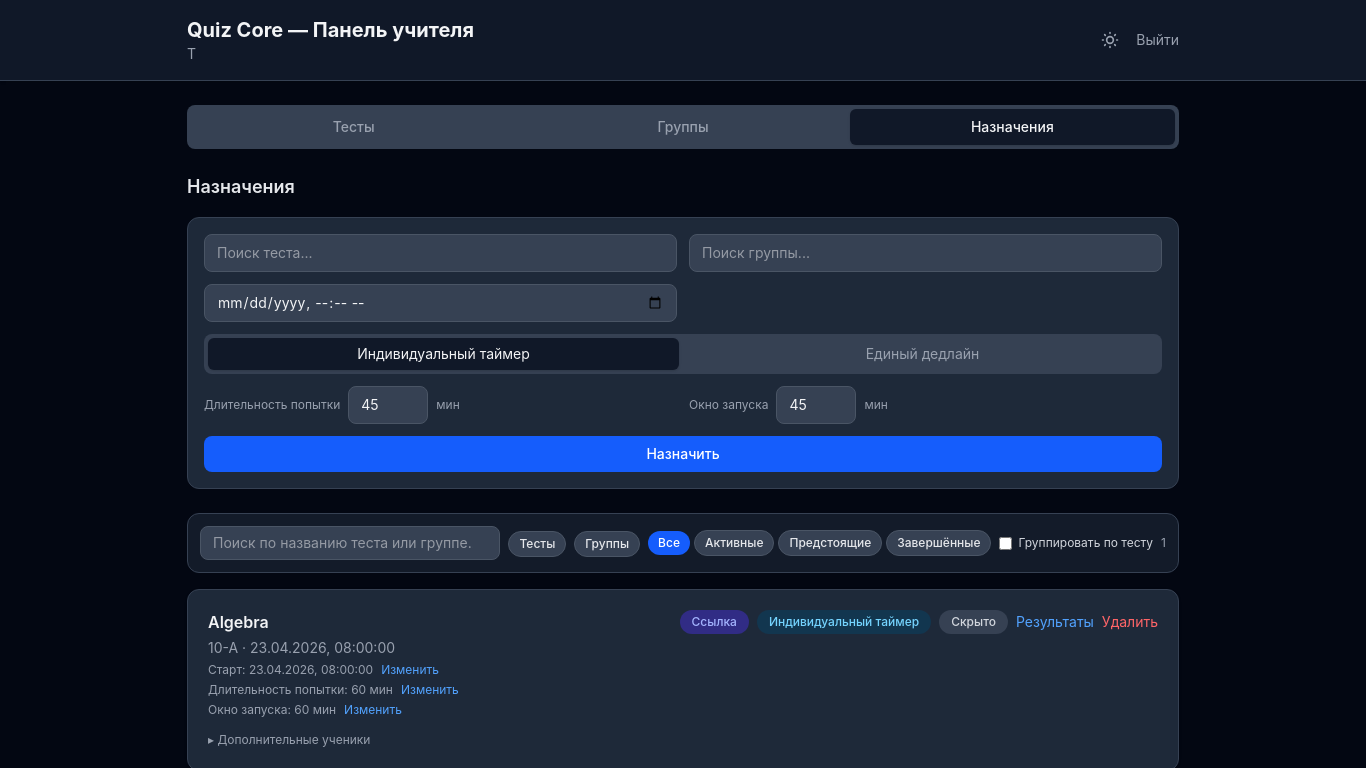
Test: TeacherDashboard shared_deadline mode › hides the start-window field when "Единый дедлайн" is selected
Expected: the field labelled "Окно запуска" is shown, [776,386,856,424]
Click the radio button labelled "Единый дедлайн".
click(922, 354)  # box [687,338,1158,370]
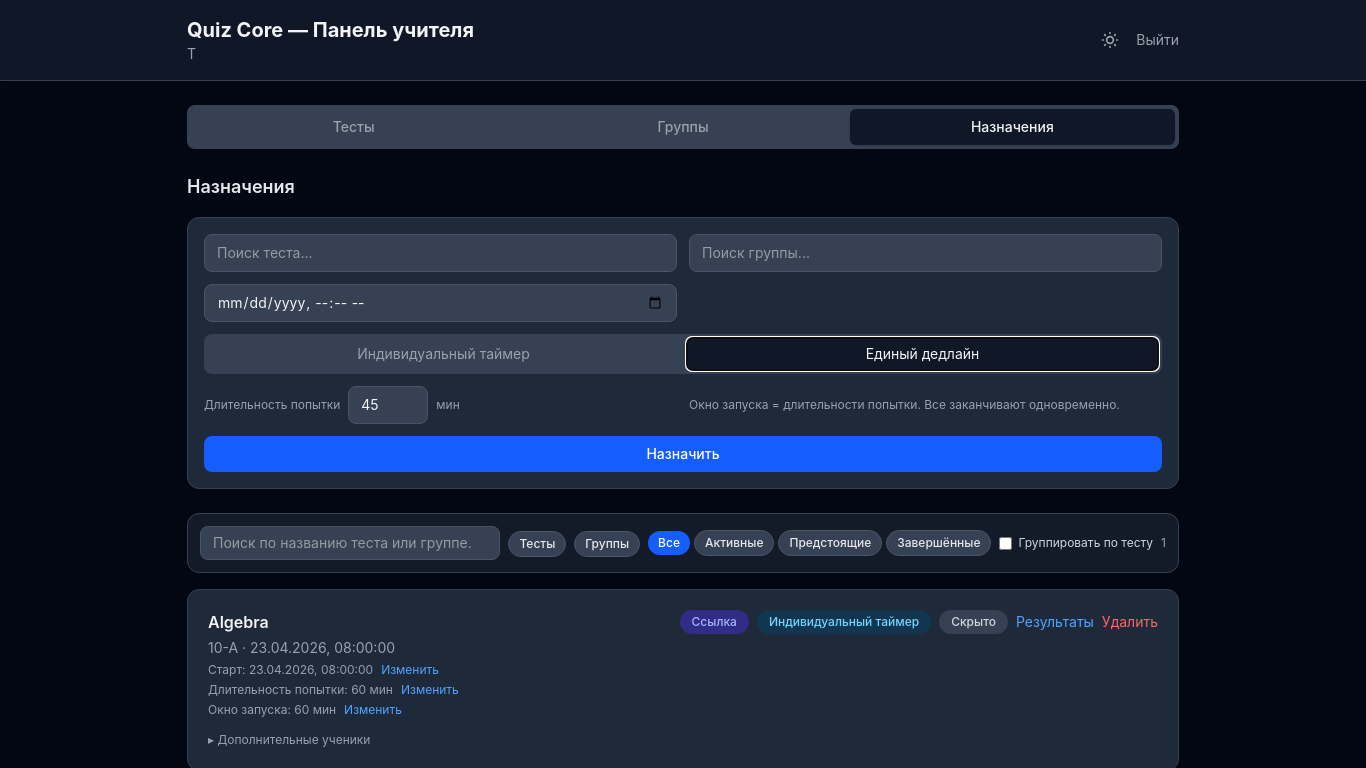
Now the text "Окно запуска = длительности попытки" is shown, box [689,397,1120,412]
